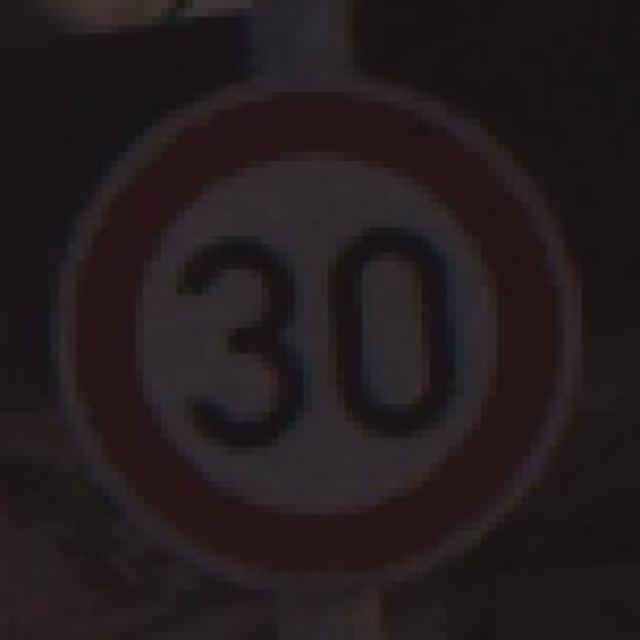Speed Limit 30 KMPh: (25, 67, 623, 607)
